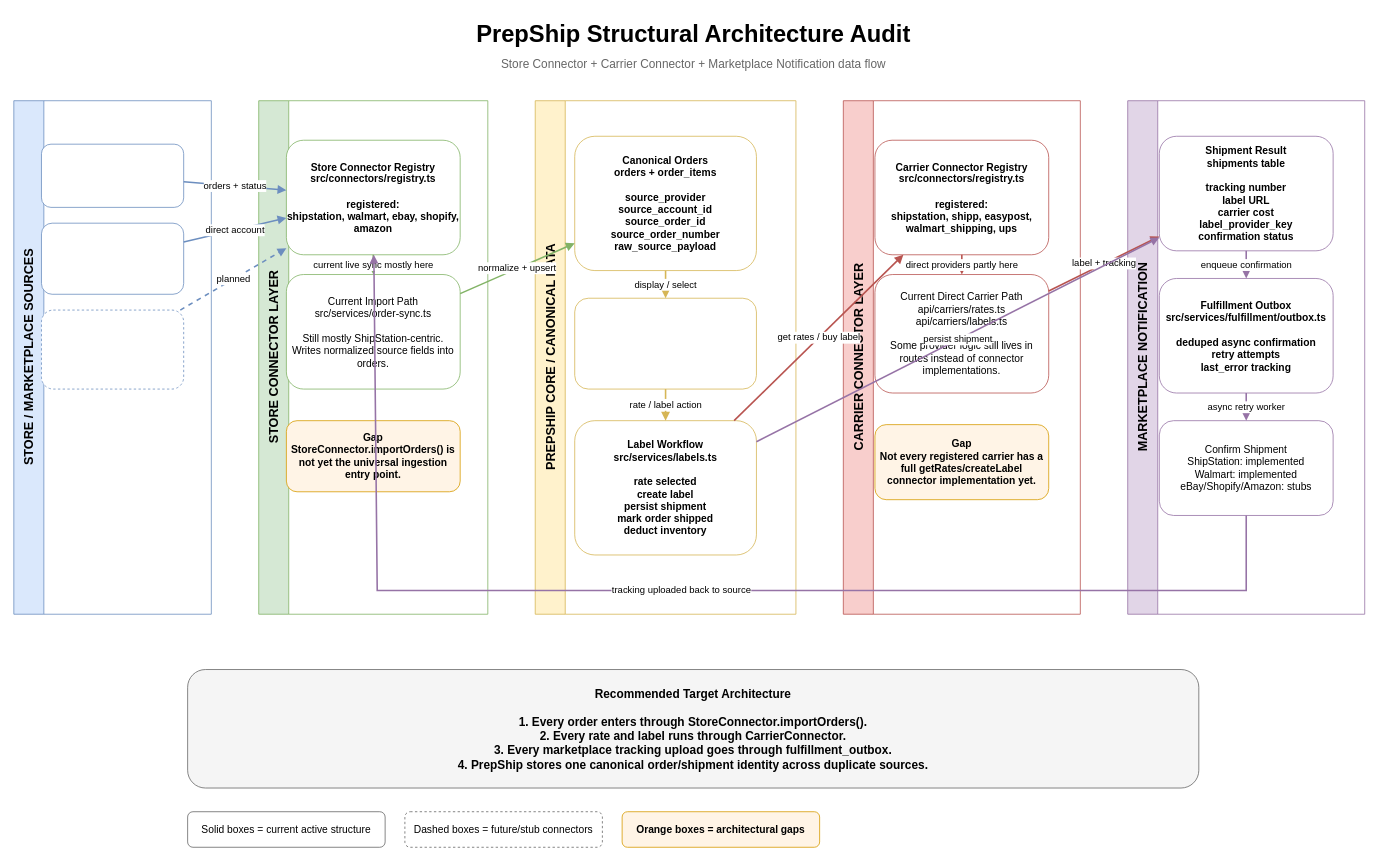
The diagram is 1379 pixels wide and 861 high, and some of its shapes have lost their labels. Each missing label, with the centre of its shape:
Future Stores eBay / Shopify / Amazon registered but not fully live: the point at 112,349
PrepShip UI Awaiting Shipment Rate Shop Batch Actions Order Detail: the point at 665,343
ShipStation Store current primary order source: the point at 112,175
Walmart Direct Store separate source record deduped into canonical view: the point at 112,258
